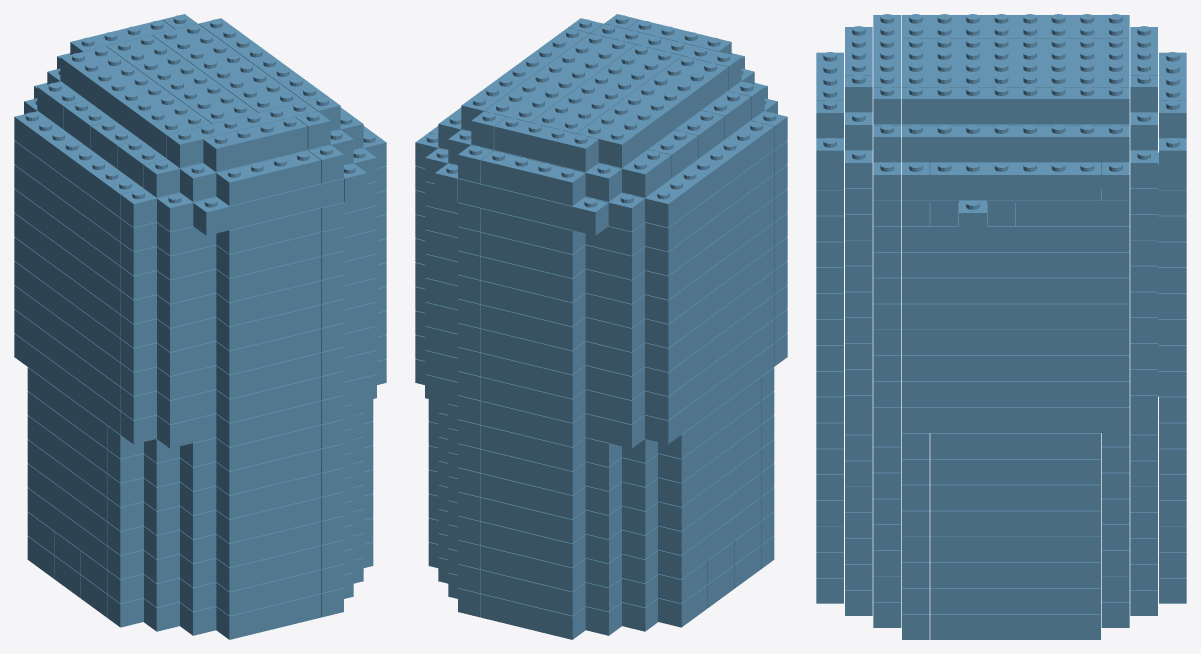
Rendered from 060_birdhouse_L5.glb.
The picture shows the model from 3 angles, left to right: view 1: azimuth 30°, elevation 25°; view 2: azimuth 150°, elevation 25°; view 3: azimuth 270°, elevation 25°; orthographic projection. The views are drawn at different scales.
Size of the model in its own units: 11.98 by 20.13 by 12.98.
